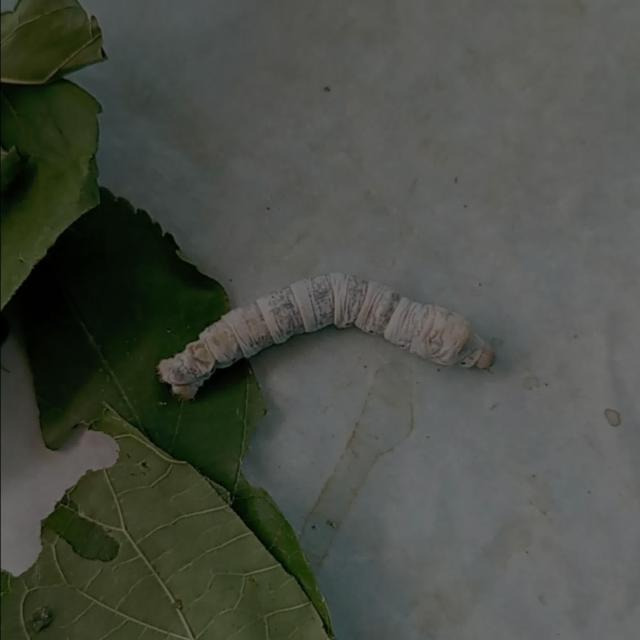Grasserie: (151, 252, 510, 424)
